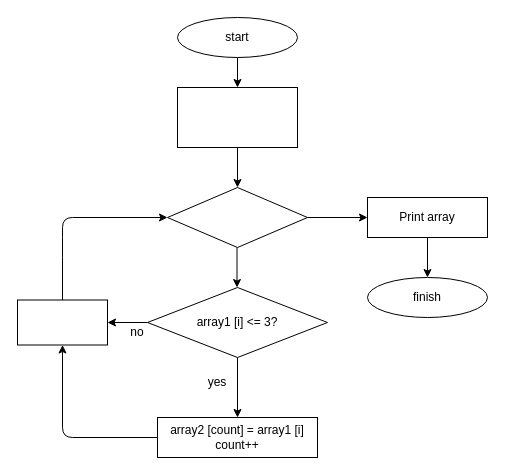
The diagram is 505 pixels wide and 475 high, and some of its shapes have lost their labels. The centre of each missing label's shape, as x and y in pixels:
"i < array1.Lenght?" belongs at (x=237, y=217).
"i++" belongs at (x=62, y=322).
"string array1 strang array2 int count = 0" belongs at (x=237, y=117).
